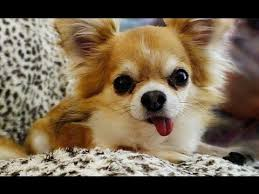chihuahua: (1, 18, 239, 160)
